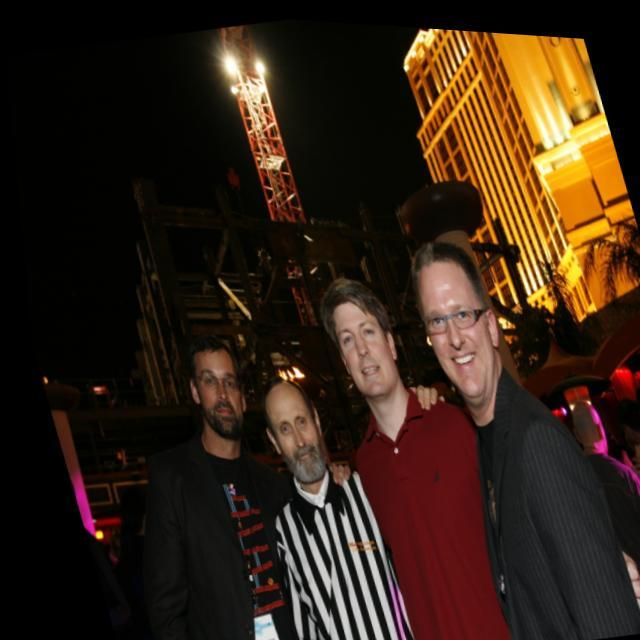Nonhelmet: (404, 236, 514, 420), (313, 272, 405, 405), (250, 366, 334, 488), (172, 324, 252, 440)
